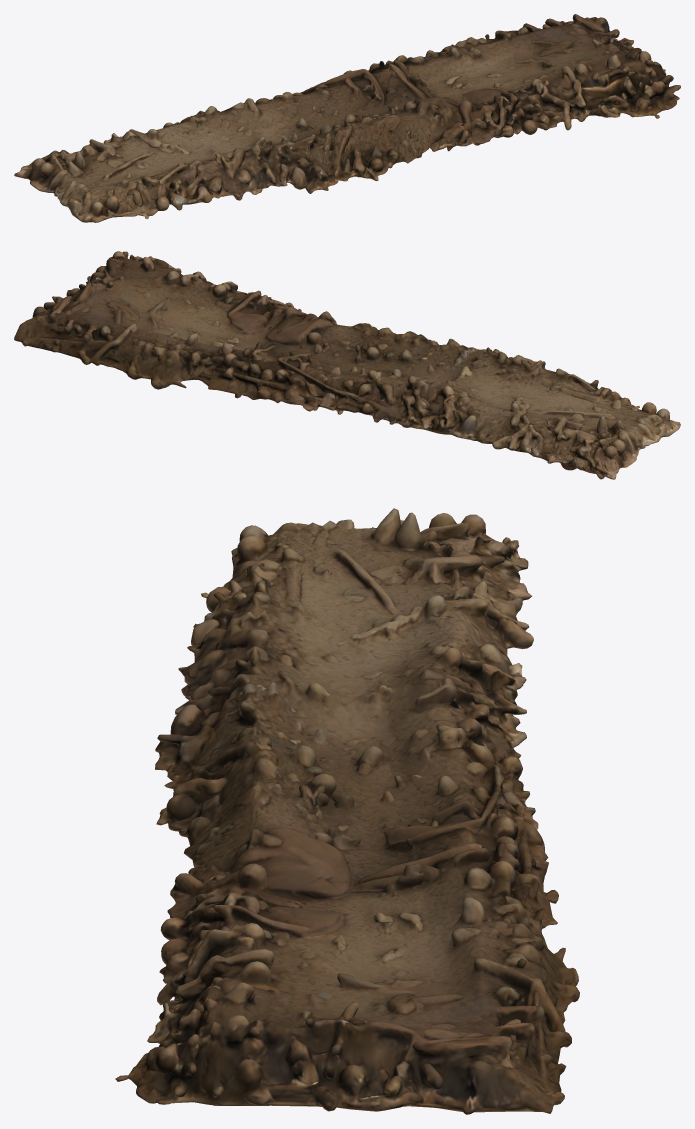
Rendered from nature-path-dirt.glb.
The picture shows the model from 3 angles, top to bottom: view 1: azimuth 30°, elevation 25°; view 2: azimuth 150°, elevation 25°; view 3: azimuth 270°, elevation 25°; orthographic projection. The views are drawn at different scales.
Parts seen in each view (by area): view 1: tripo_node_d368009f-d2d9-4dfb-a61e-bfd4e635012a; view 2: tripo_node_d368009f-d2d9-4dfb-a61e-bfd4e635012a; view 3: tripo_node_d368009f-d2d9-4dfb-a61e-bfd4e635012a.
Part boxes in pixels (box(x1,y1,x2,y2)): tripo_node_d368009f-d2d9-4dfb-a61e-bfd4e635012a: box(14, 14, 680, 222); tripo_node_d368009f-d2d9-4dfb-a61e-bfd4e635012a: box(14, 251, 680, 479); tripo_node_d368009f-d2d9-4dfb-a61e-bfd4e635012a: box(115, 508, 579, 1114).
Bounding box in the file's own units: 0.6364 × 0.05 × 0.2161.
1 material, 1 textured.
